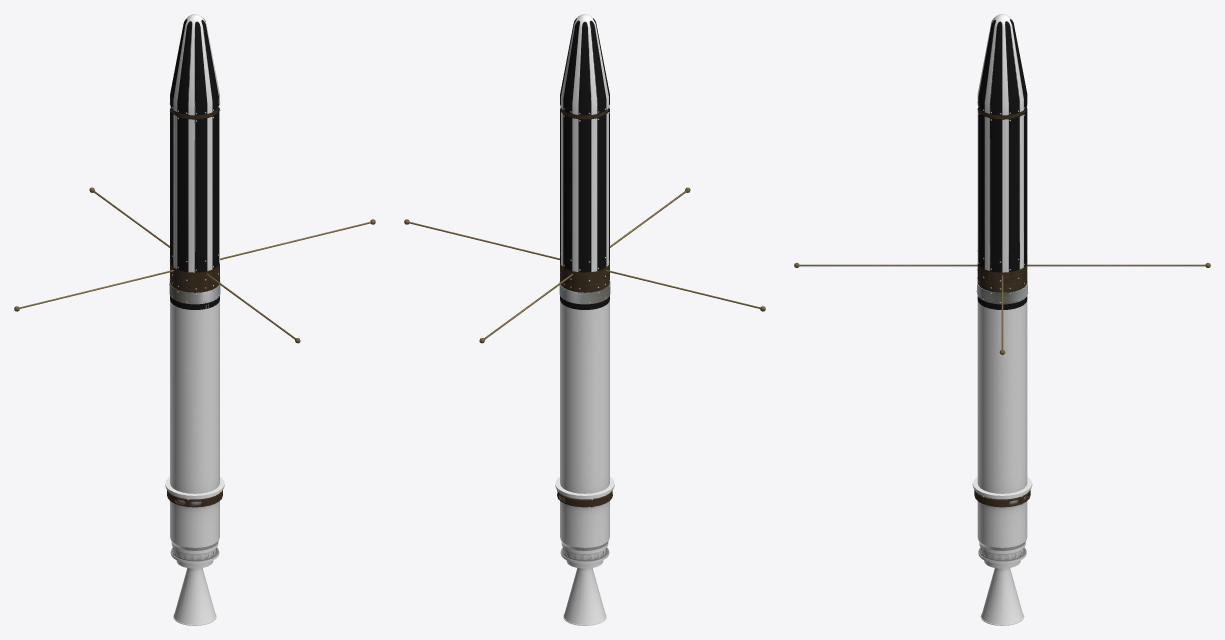
Rendered from exploreri.glb.
3 views of the same model, side by side, from view 1: azimuth 30°, elevation 25°; view 2: azimuth 150°, elevation 25°; view 3: azimuth 270°, elevation 25° (orthographic).
Visible parts, largest first — view 1: shiny_panel, tex_01; view 2: shiny_panel, tex_01; view 3: shiny_panel, tex_01.
Boxes of the visible parts, box(x1,y1,x2,y2) form: shiny_panel: box(165, 14, 224, 625); tex_01: box(14, 187, 375, 507); shiny_panel: box(555, 14, 614, 625); tex_01: box(404, 187, 765, 507); shiny_panel: box(972, 14, 1032, 625); tex_01: box(794, 263, 1210, 507).
Size of the model in its own units: 1.28 by 2.03 by 1.28.
2 materials, 2 textured.
